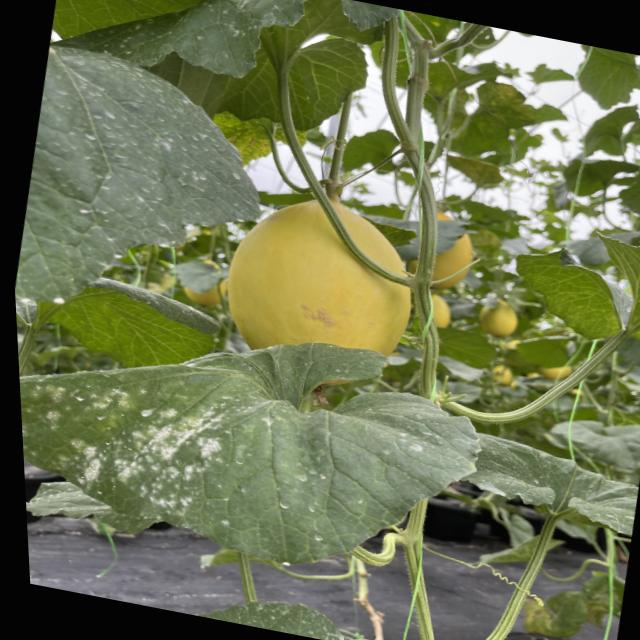downy mildew: (494, 208, 640, 377), (67, 0, 310, 99)
powdery mildew: (14, 279, 467, 584), (2, 31, 279, 353), (450, 424, 640, 542)
